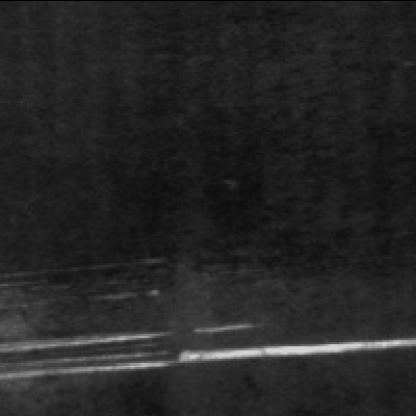scratches: (0, 318, 410, 379)
